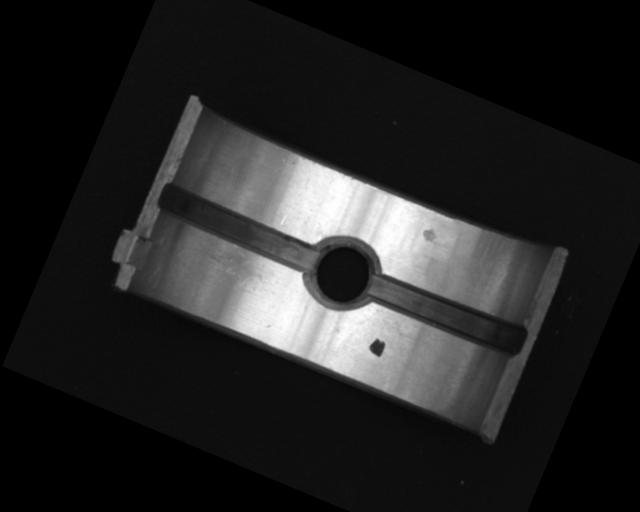blot: (366, 335, 388, 358)
bruise: (420, 225, 439, 245)
gap: (152, 179, 323, 277), (364, 267, 528, 362)
hole: (298, 230, 389, 318)
nick: (280, 175, 311, 229)
scratch: (185, 231, 270, 297)
